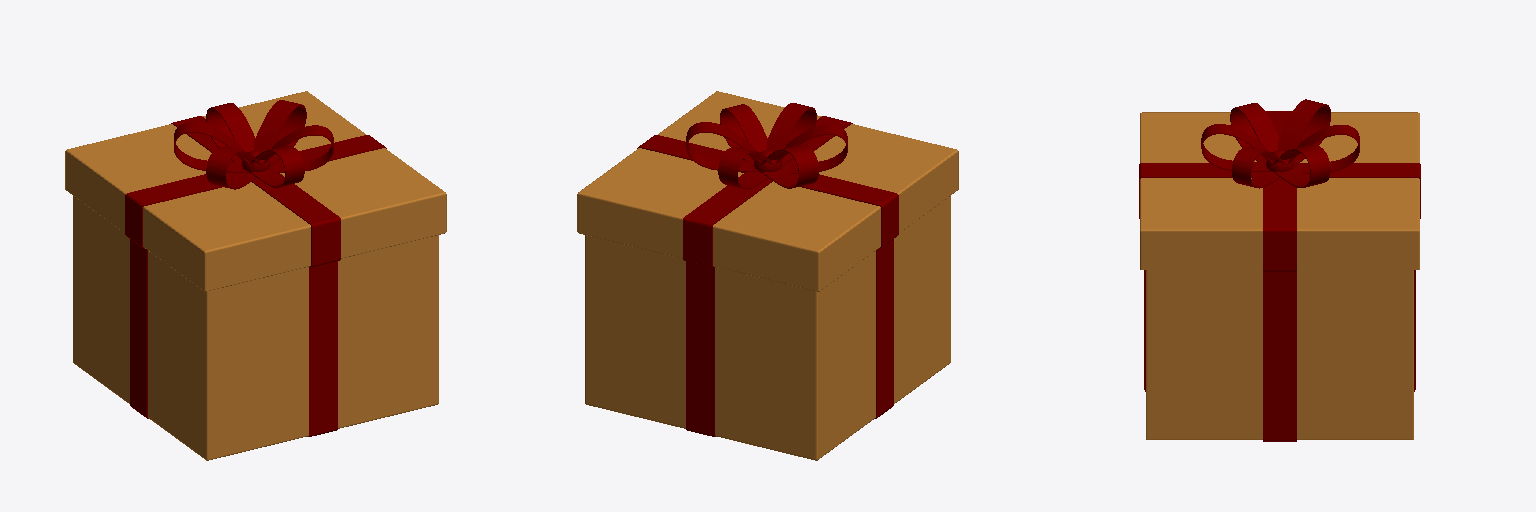
File: gift.obj
The picture shows the model from 3 angles: view 1: azimuth 30°, elevation 25°; view 2: azimuth 150°, elevation 25°; view 3: azimuth 270°, elevation 25°; orthographic projection.
Parts seen in each view (by area): view 1: group1 file:archmodels88_023_002, file:archmodels88_023_005 group1; view 2: group1 file:archmodels88_023_002, file:archmodels88_023_005 group1; view 3: group1 file:archmodels88_023_002, file:archmodels88_023_005 group1.
Boxes of the visible parts, <box> form: group1 file:archmodels88_023_002: <box>65,91,446,460</box>; file:archmodels88_023_005 group1: <box>125,100,386,436</box>; group1 file:archmodels88_023_002: <box>577,91,958,460</box>; file:archmodels88_023_005 group1: <box>637,103,898,436</box>; group1 file:archmodels88_023_002: <box>1140,112,1419,439</box>; file:archmodels88_023_005 group1: <box>1139,99,1420,441</box>.
Size of the model in its own units: 7.32 by 7.4 by 7.32.